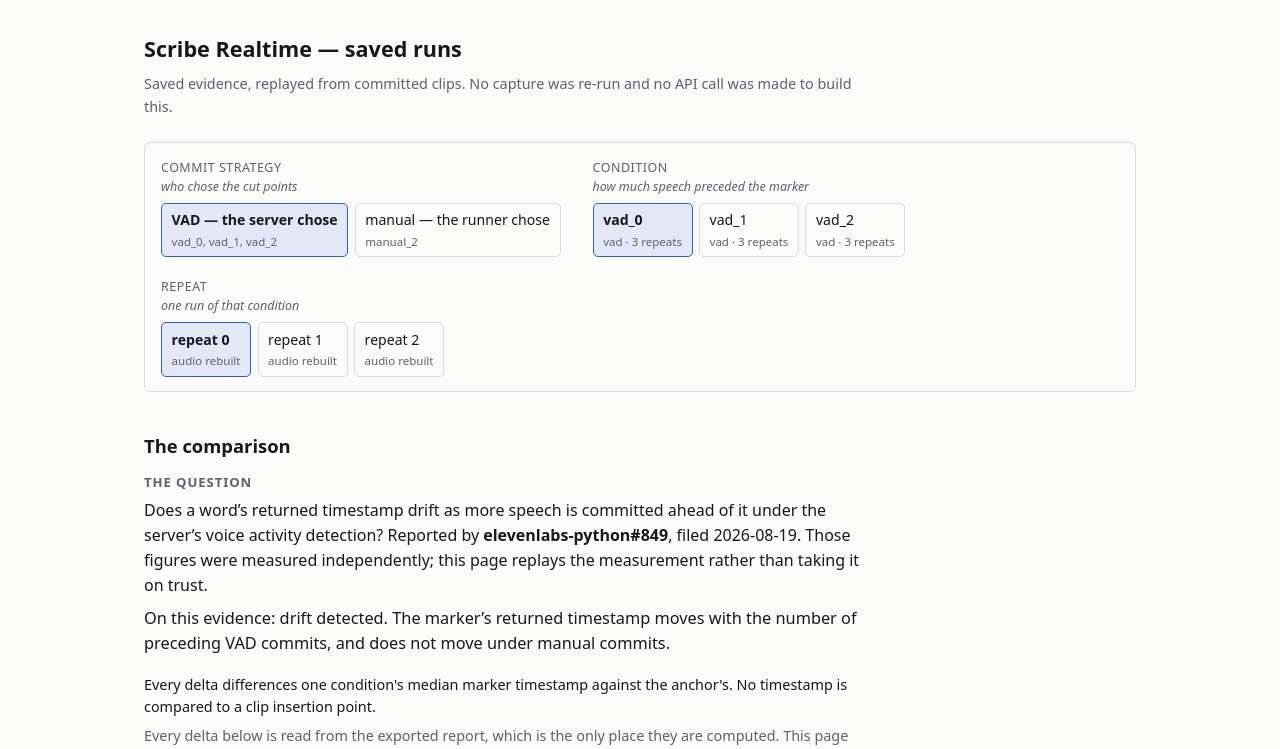
Scenario: switching between strategies and conditions › moves to the manual control's own run, and says so in the URL
Step 1. Click the button "manual — the runner chose manual_2" → {"x": 458, "y": 230}, box [355, 203, 561, 257]
(page scrolled)
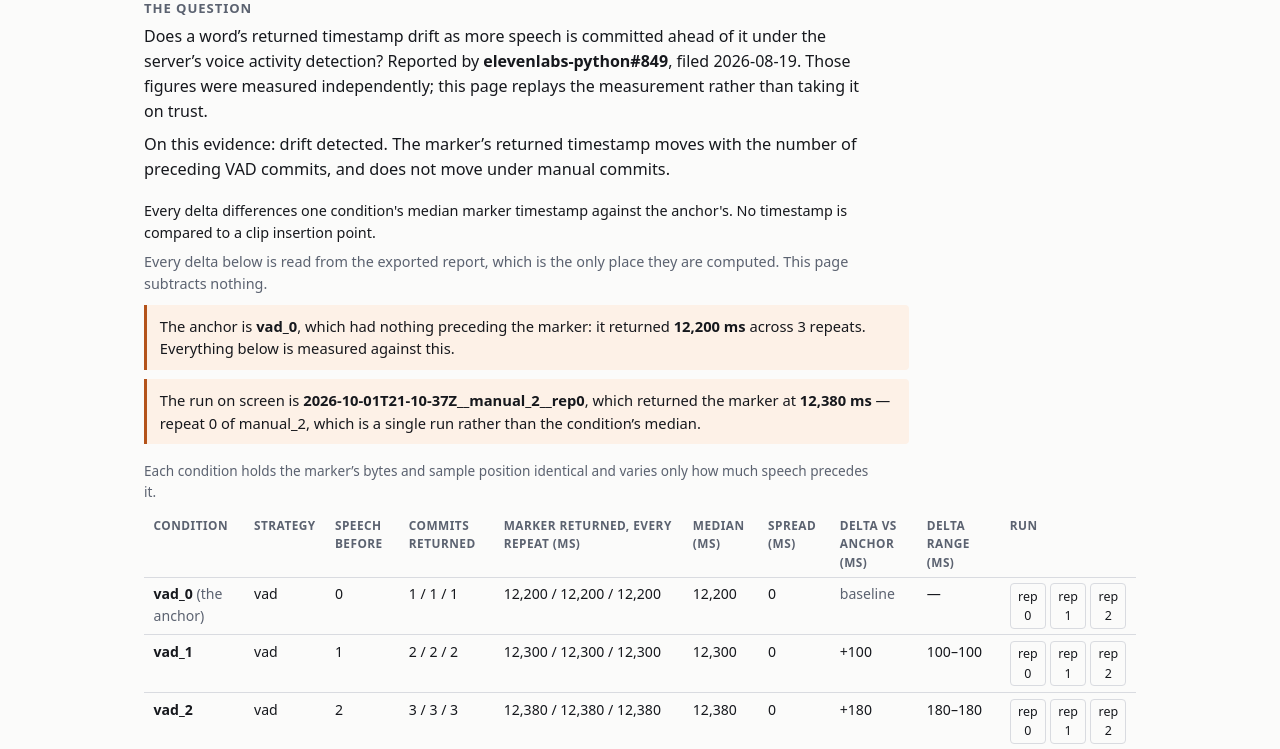
expect the text "2026-10-01T21-10-37Z__manual_2__rep0" is shown: met, box [303, 390, 585, 410]
